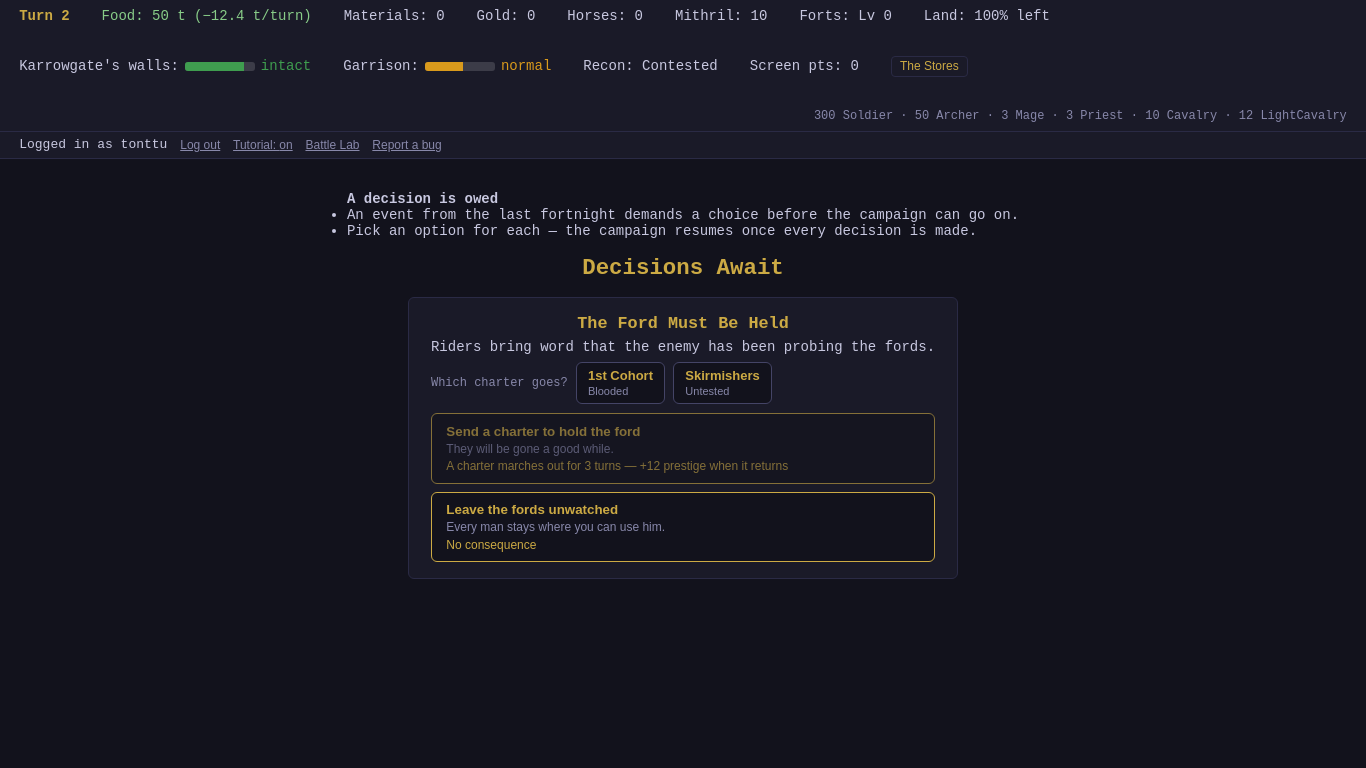
Test: the charter picker (12-1) › holds the mission branch back until a charter is picked
Expected: the button with test id "choice-hold_the_ford" is disabled, [431, 413, 935, 484]
Expected: the button with test id "choice-leave_it_unwatched" is enabled, [431, 492, 935, 562]
Click the button with test id "mission-pick-2": (723, 383) [673, 362, 772, 404]
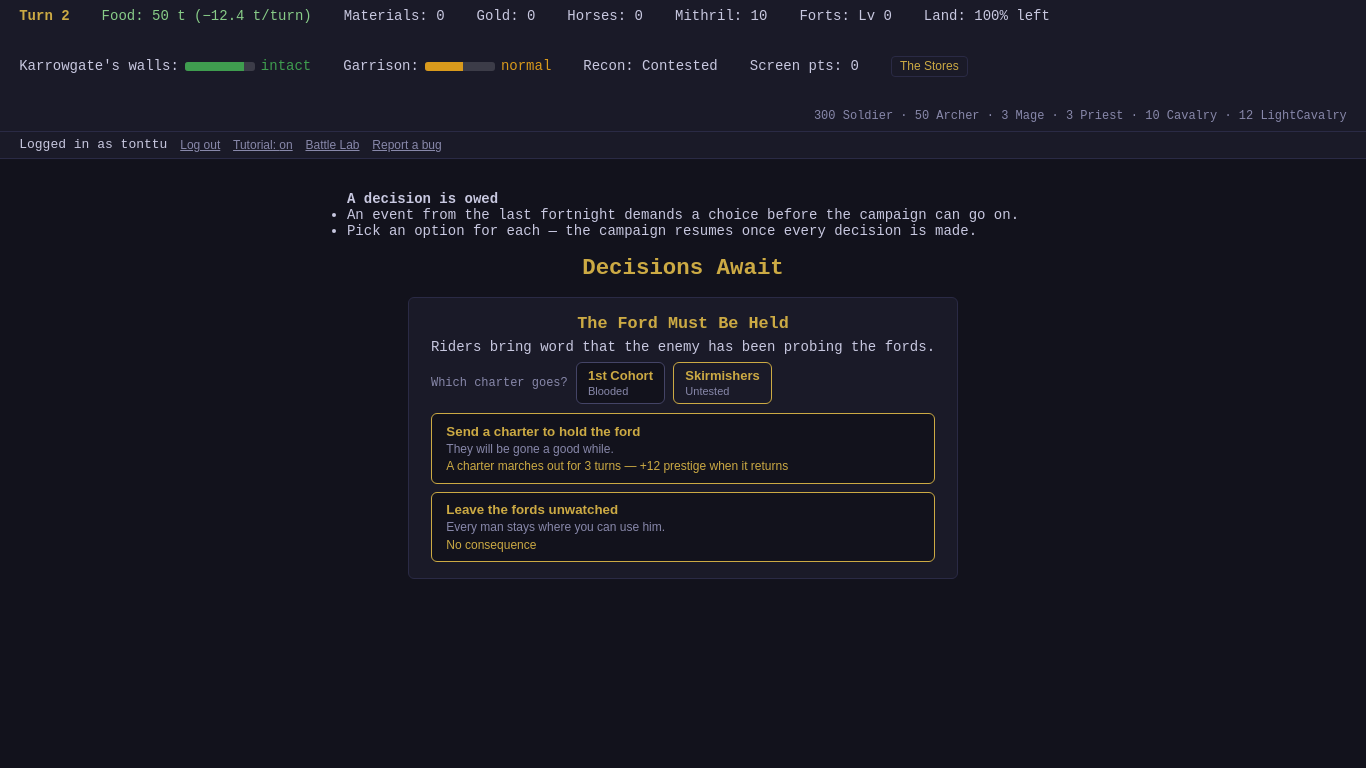
Result: the button with test id "choice-hold_the_ford" is enabled at [431, 413, 935, 484]
